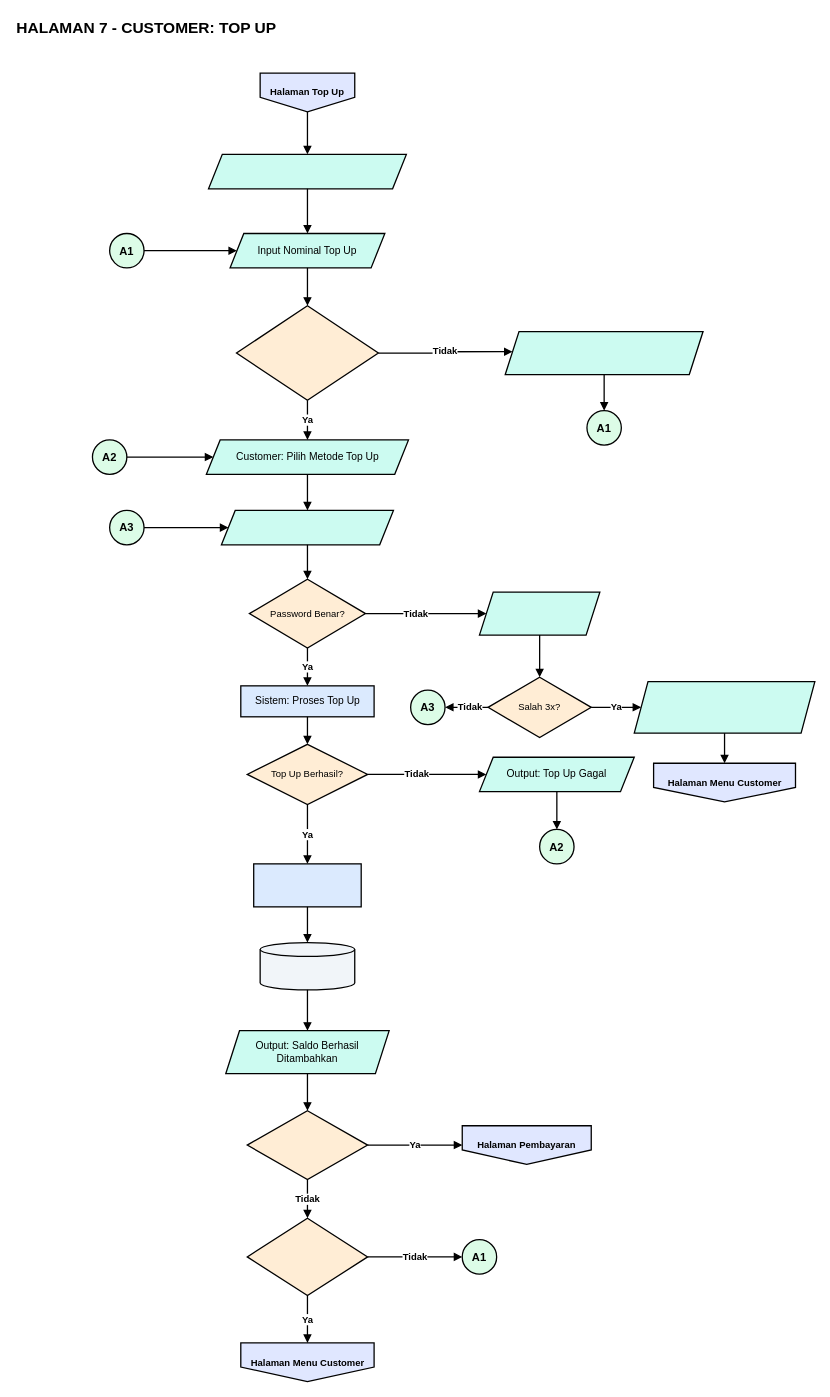
The diagram is 830 pixels wide and 1397 high, and some of its shapes have lost their labels. The box of each missing label's shape, as (x1, y1, x2, y2) in pixels:
Customer: Input Password: (220, 509, 394, 545)
Kembali ke Menu Customer?: (246, 1217, 368, 1296)
Nominal Valid dan Tidak Melebihi Batas Maksimal?: (235, 305, 379, 401)
Output: Nominal Tidak Valid atau Melebihi Batas Maksimal: (504, 330, 703, 375)
Output: Password Salah: (478, 591, 600, 635)
Output: Tampilan Menu Top Up: (208, 153, 407, 189)
Output: Transaksi Dibatalkan (Password Salah 3x): (633, 681, 815, 733)
Sistem: Catat Transaksi Top Up: (253, 863, 361, 907)
Tabel Transaksi: (259, 942, 355, 990)
Top Up dari Pembayaran?: (246, 1110, 368, 1180)
